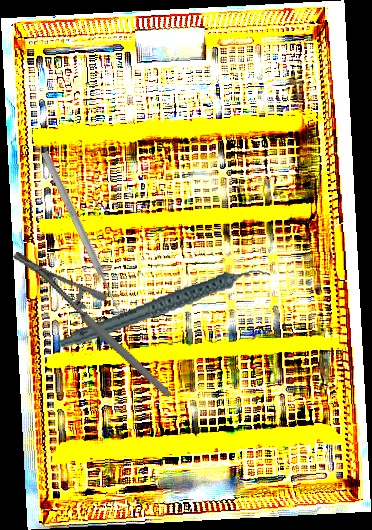Handpiece: (54, 266, 276, 350)
Needle Holder: (11, 219, 172, 431)
Pusher: (39, 150, 123, 313)
